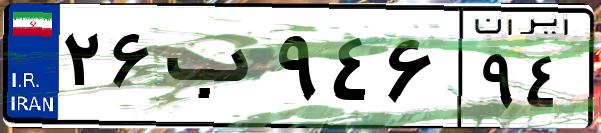2: (57, 26, 110, 100)
4: (330, 28, 385, 110), (525, 38, 570, 115)
6: (385, 28, 445, 110), (110, 28, 158, 98)
9: (270, 28, 330, 110), (475, 38, 525, 113)
ب: (158, 20, 270, 120)
